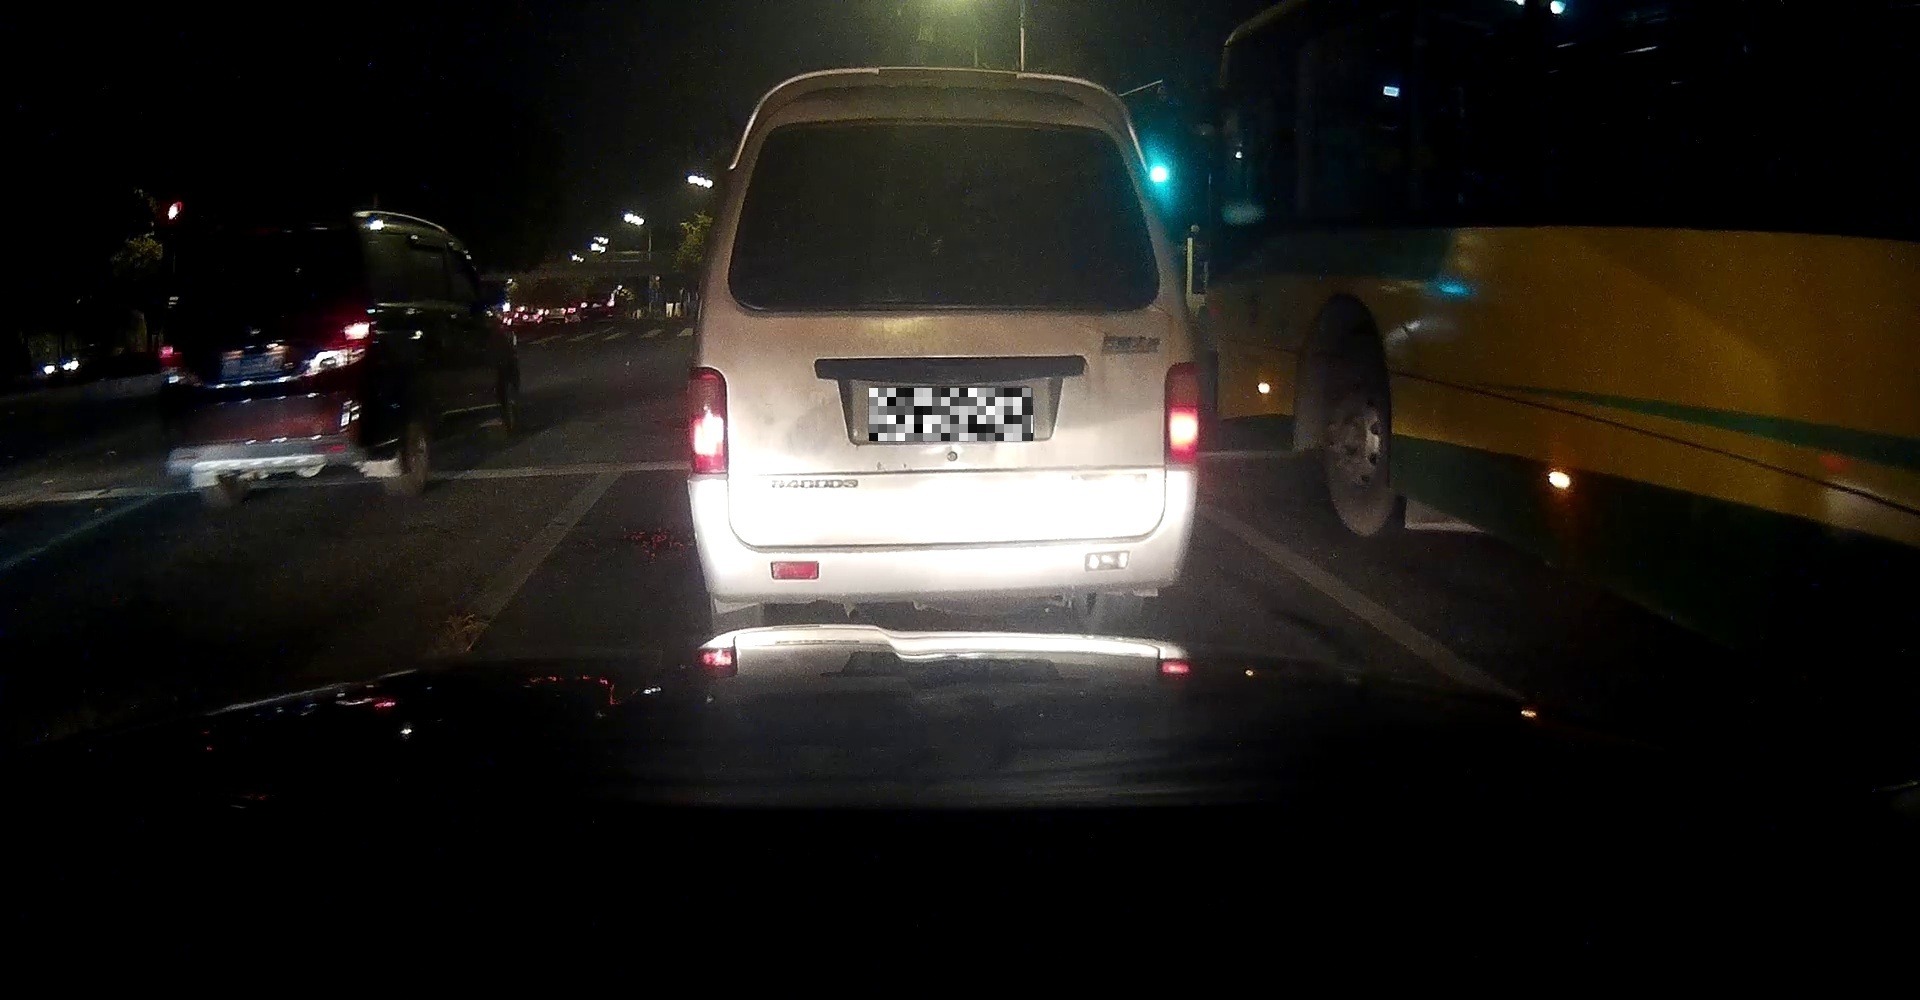L_light: (686, 365, 726, 475), (157, 345, 185, 369)
R_light: (1163, 363, 1197, 463), (321, 313, 370, 348)
T_light: (907, 124, 964, 138), (241, 244, 270, 250)
night-no: (686, 66, 1199, 640), (157, 214, 375, 511)
plate_1: (869, 388, 1032, 442)
